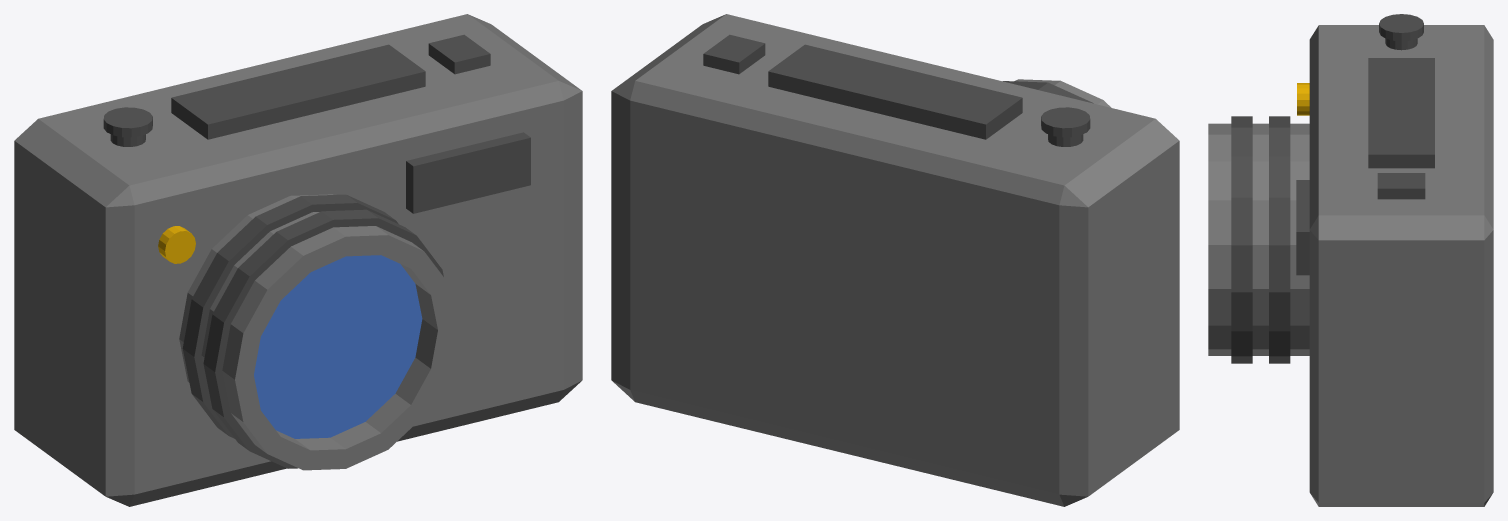
The model's file is camera.fbx.
The picture shows the model from 3 angles, left to right: view 1: azimuth 30°, elevation 25°; view 2: azimuth 150°, elevation 25°; view 3: azimuth 270°, elevation 25°; orthographic projection. The views are drawn at different scales.
Visible parts, largest first — view 1: cam; view 2: cam; view 3: cam.
Part boxes in pixels (x1,y1,x2,y2): cam: [14, 14, 582, 506]; cam: [611, 14, 1179, 506]; cam: [1208, 14, 1493, 506].
Size of the model in its own units: 4.3 by 2.97 by 2.45.
